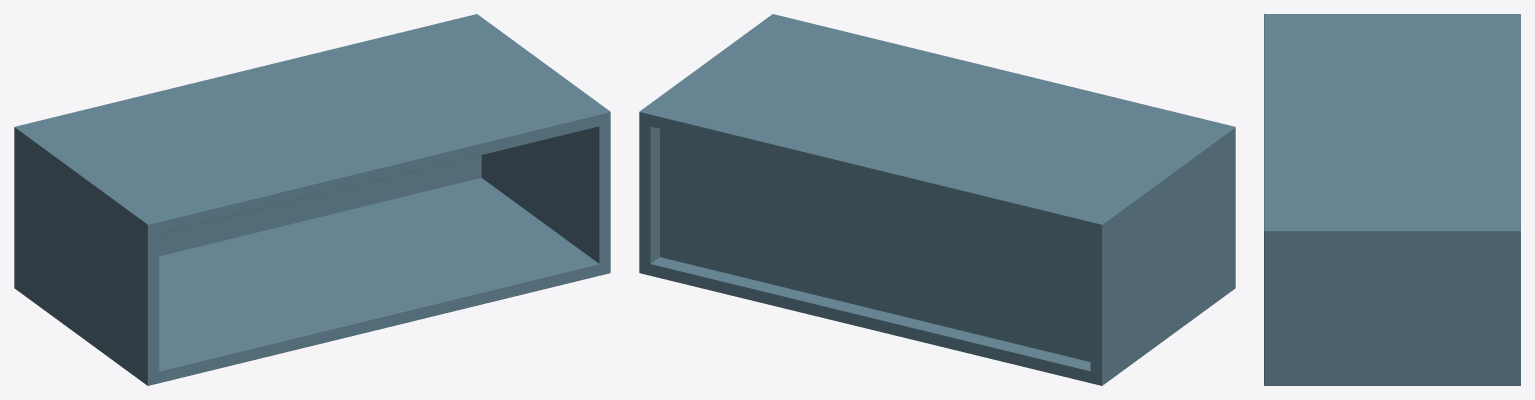
The model's file is MOD-2X07-A-B-AC.glb.
3 views of the same model, side by side, from view 1: azimuth 30°, elevation 25°; view 2: azimuth 150°, elevation 25°; view 3: azimuth 270°, elevation 25° (orthographic). The views are drawn at different scales.
Size of the model in its own units: 720 by 240 by 360.
